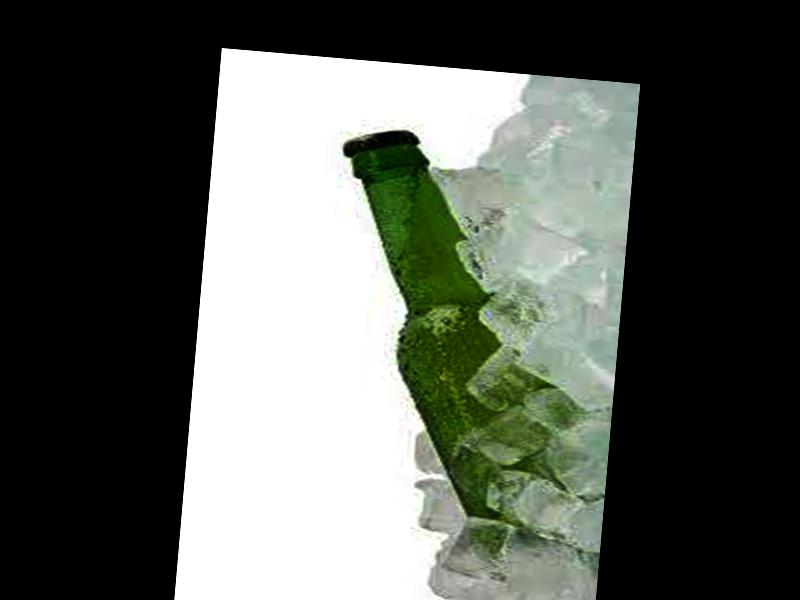Beer: (313, 121, 554, 550)
